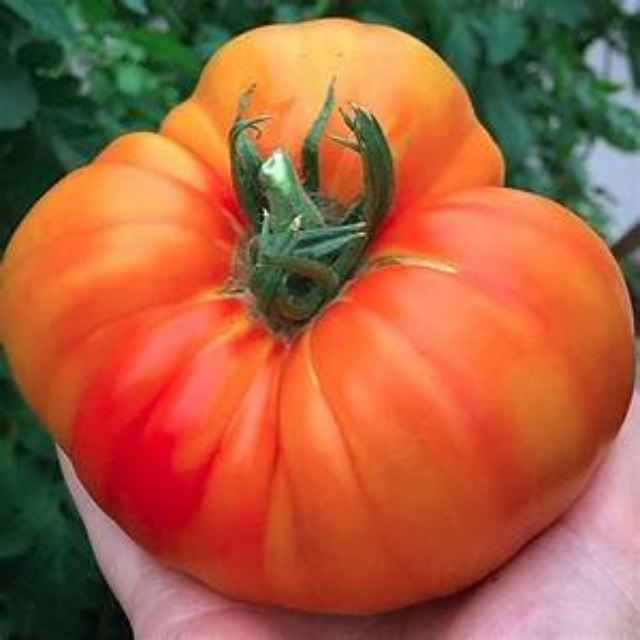tomato: (10, 29, 624, 602)
